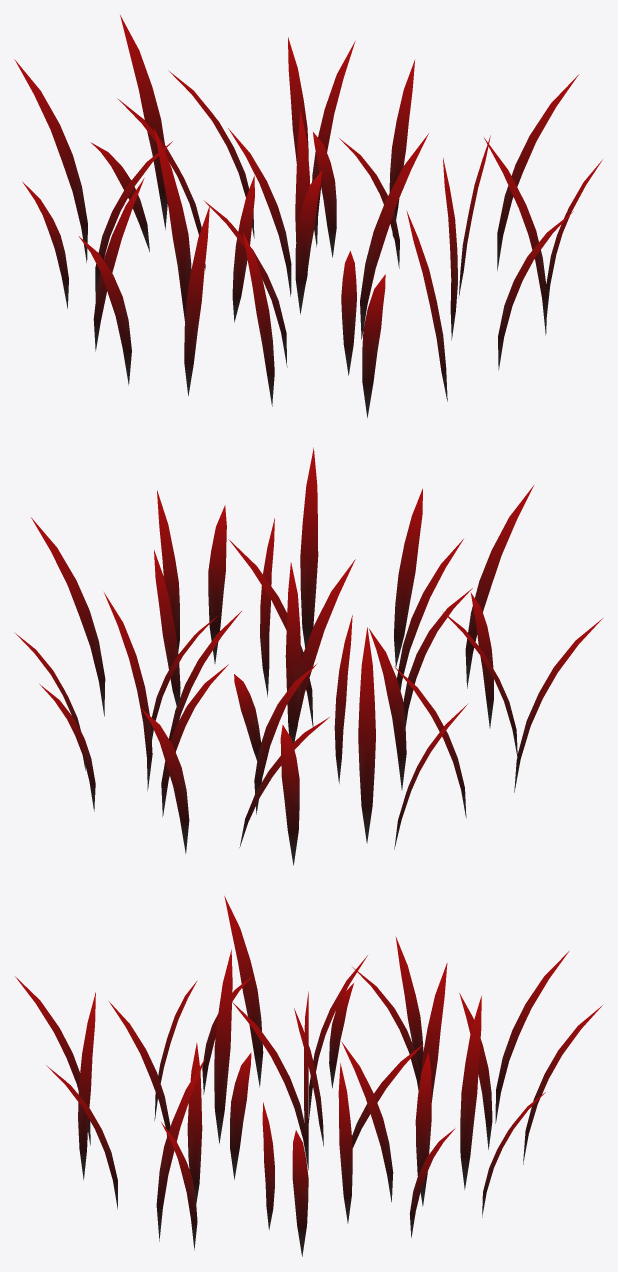
Rendered from Grass.fbx.
3 views of the same model, one above another, from view 1: azimuth 30°, elevation 25°; view 2: azimuth 150°, elevation 25°; view 3: azimuth 270°, elevation 25° (orthographic). The views are drawn at different scales.
Parts seen in each view (by area): view 1: Grass; view 2: Grass; view 3: Grass.
Part boxes in pixels (left/top/right/bottom): Grass: left=14, top=15, right=602, bottom=418; Grass: left=14, top=447, right=602, bottom=865; Grass: left=15, top=896, right=602, bottom=1256.
Bounding box in the file's own units: 3.39 × 1.25 × 3.6.
